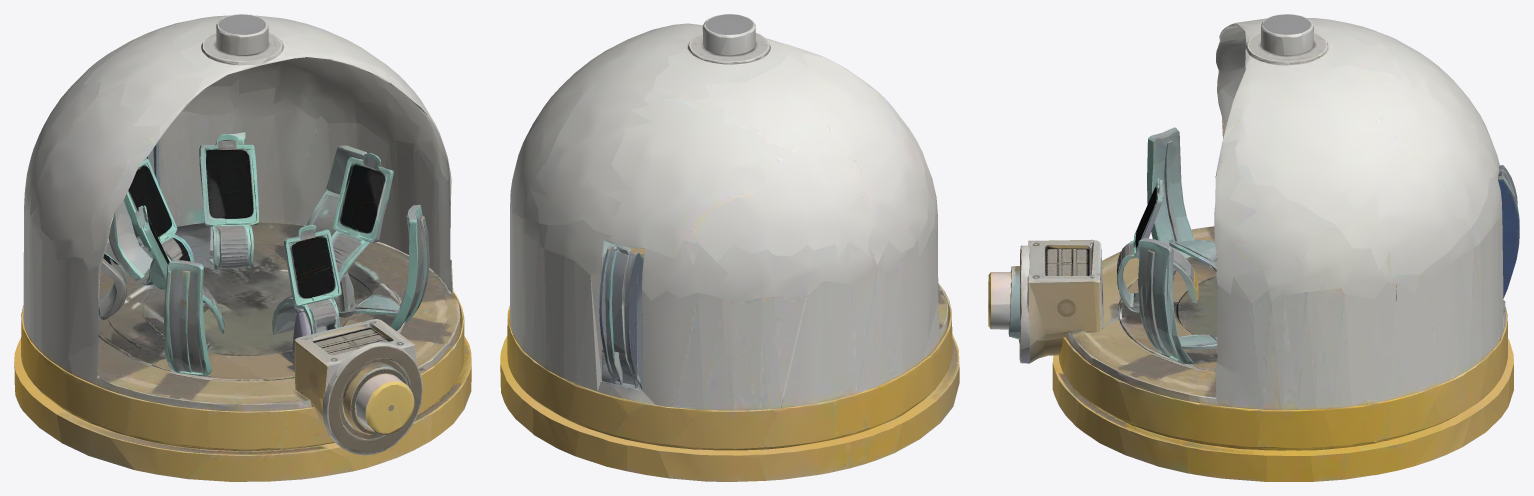
File: sample-carousel.gltf
3 views of the same model, side by side, from view 1: azimuth 30°, elevation 25°; view 2: azimuth 150°, elevation 25°; view 3: azimuth 270°, elevation 25° (orthographic).
Bounding box in the file's own units: 1.63 × 1.43 × 1.9.
Materials: 1 (1 with a texture image).
